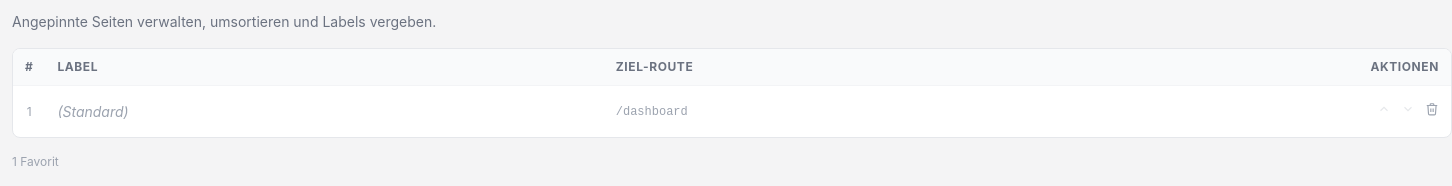
Scenario: FavoritesPage › Klick auf Label-Zelle aktiviert Eingabefeld
Click the button "(Standard)": (102, 112) [57,102,147,122]
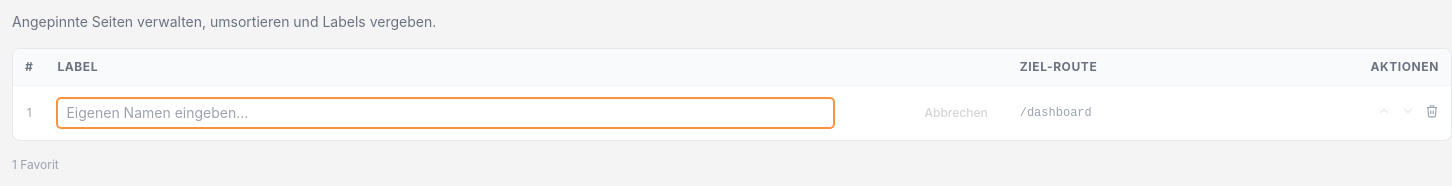
Check: the field with placeholder "Eigenen Namen eingeben…" is shown, box [57,98,834,128]
